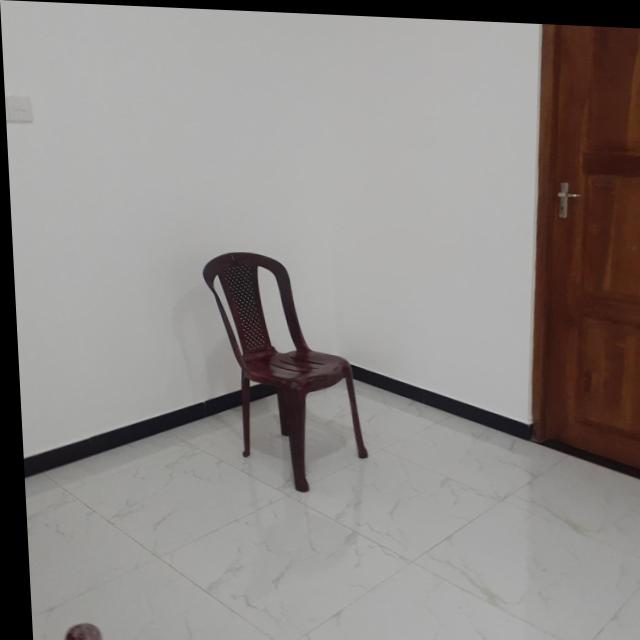Chair: (200, 247, 368, 494)
